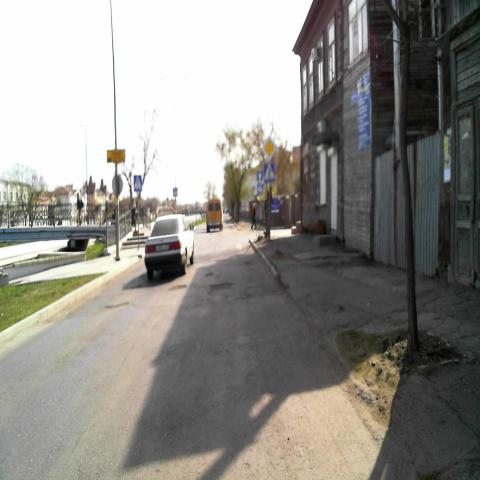2_1: (262, 135, 276, 161)
5_19_1: (264, 164, 274, 182), (133, 174, 142, 192), (256, 183, 264, 195), (173, 187, 177, 197)
5_5: (257, 169, 262, 182)
